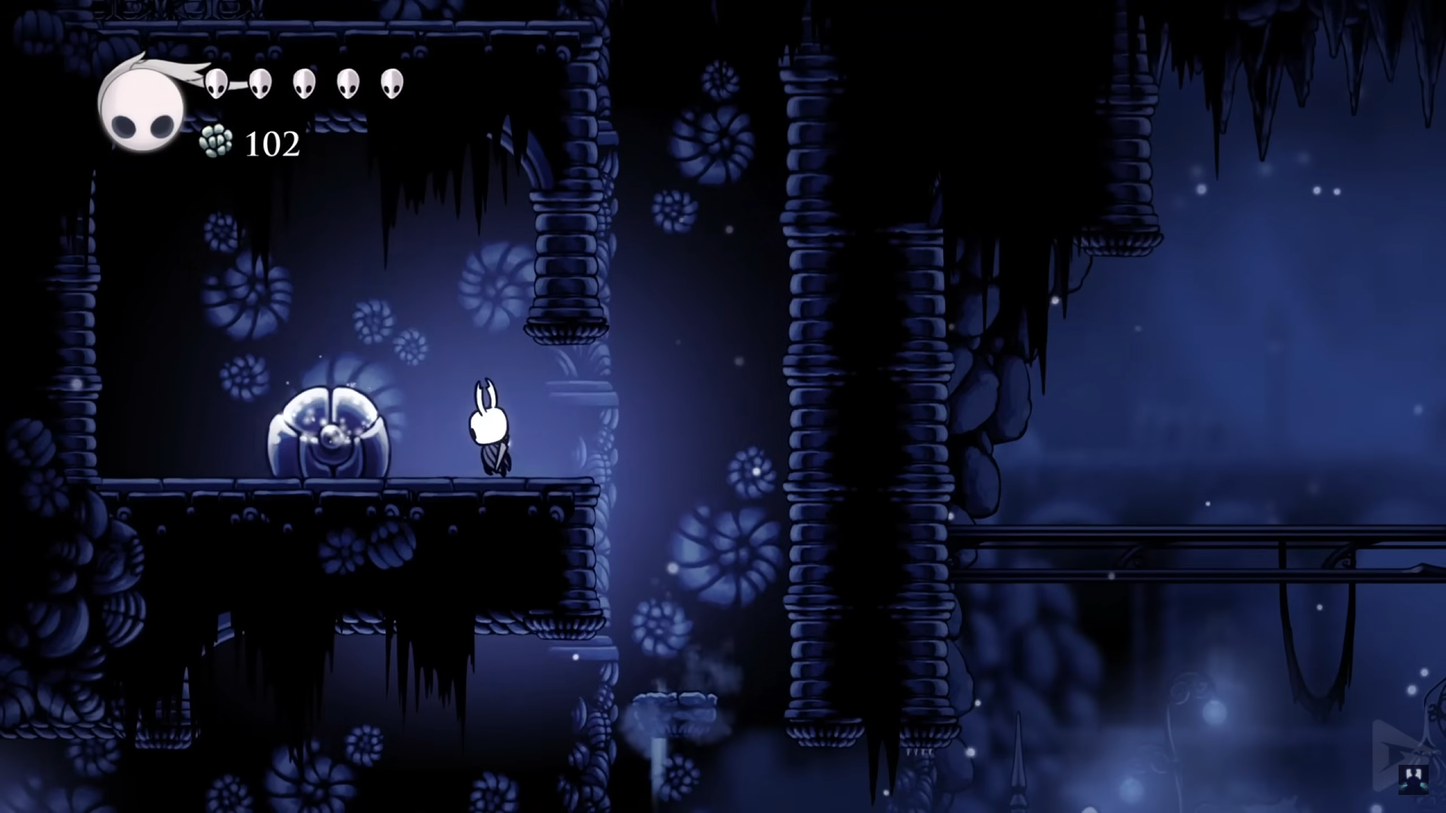HK: (463, 375, 515, 478)
